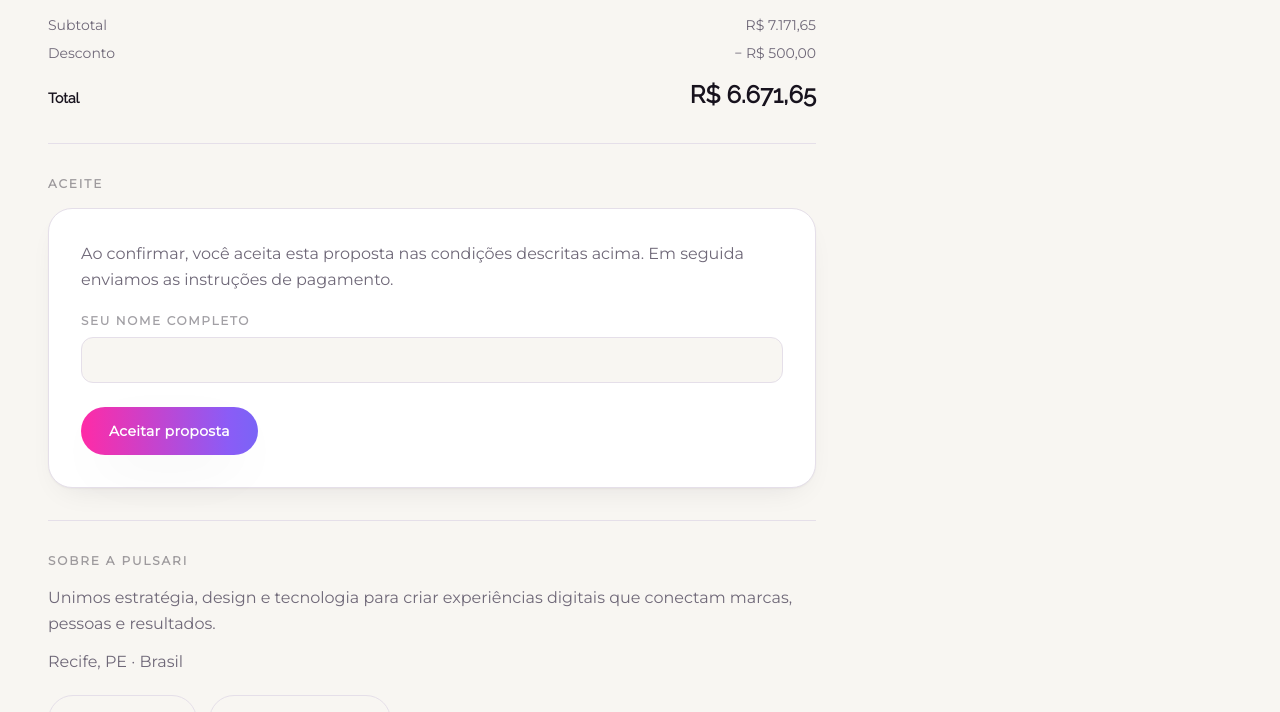
Scenario: aceite › registra e passa a mostrar a proposta como aceita
(page scrolled)
Step 1. Type "Valdir Reis" into the field labelled "Seu nome completo" → (432, 360), box [81,337,783,383]
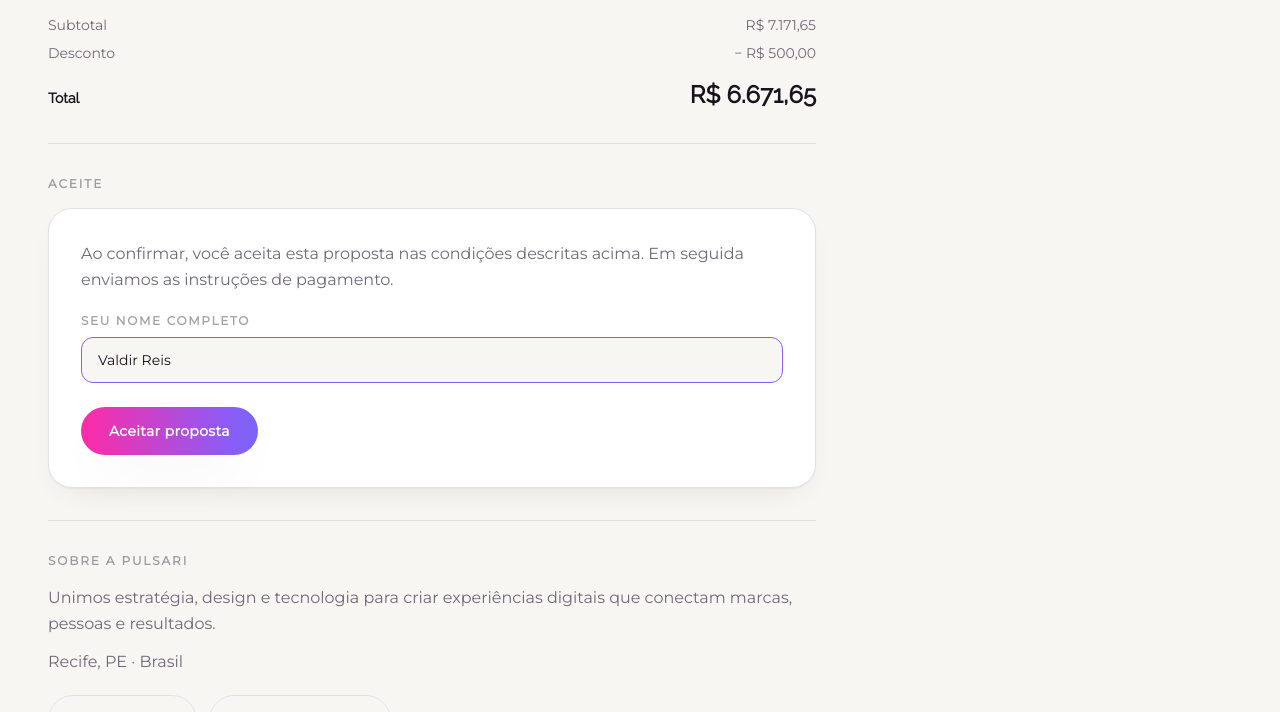
Step 2. Click the button "Aceitar proposta" → (169, 431), box [81,407,258,455]
(page scrolled)
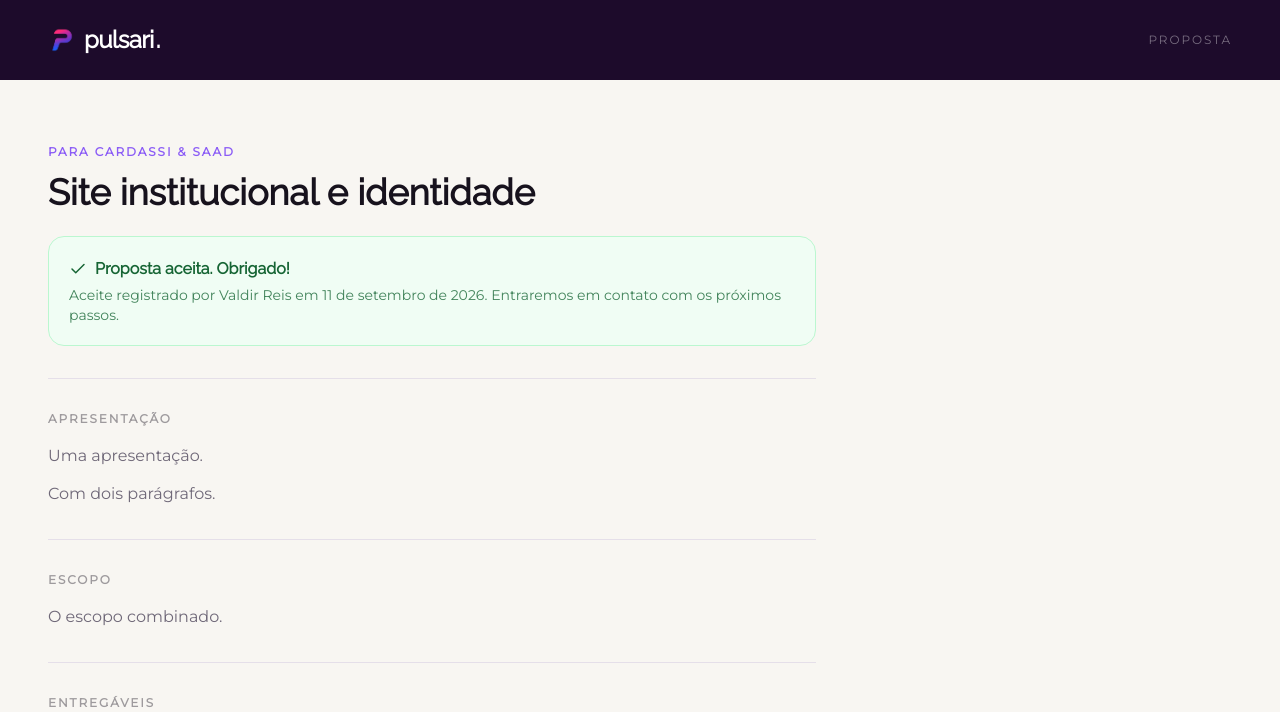
Check: the text "Proposta aceita. Obrigado!" is shown, box [69,259,290,278]
Check: the text "Valdir Reis" is shown, box [69,286,292,304]
